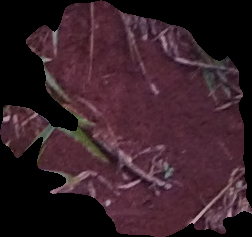soil: (1, 1, 252, 236)
